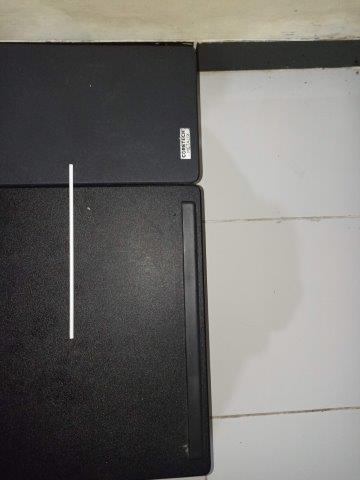sedotan: (69, 164, 74, 339)
